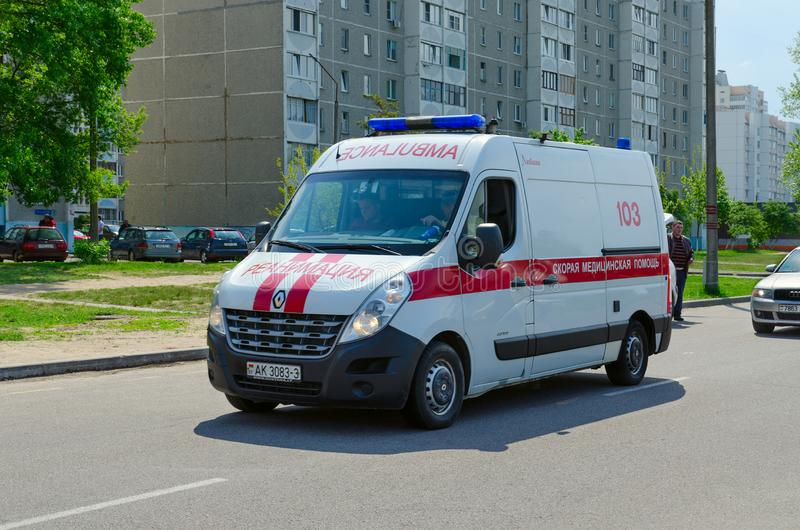passenger: (750, 241, 800, 337), (109, 226, 183, 267), (3, 222, 67, 267), (182, 227, 245, 263)
special: (198, 113, 676, 422)
